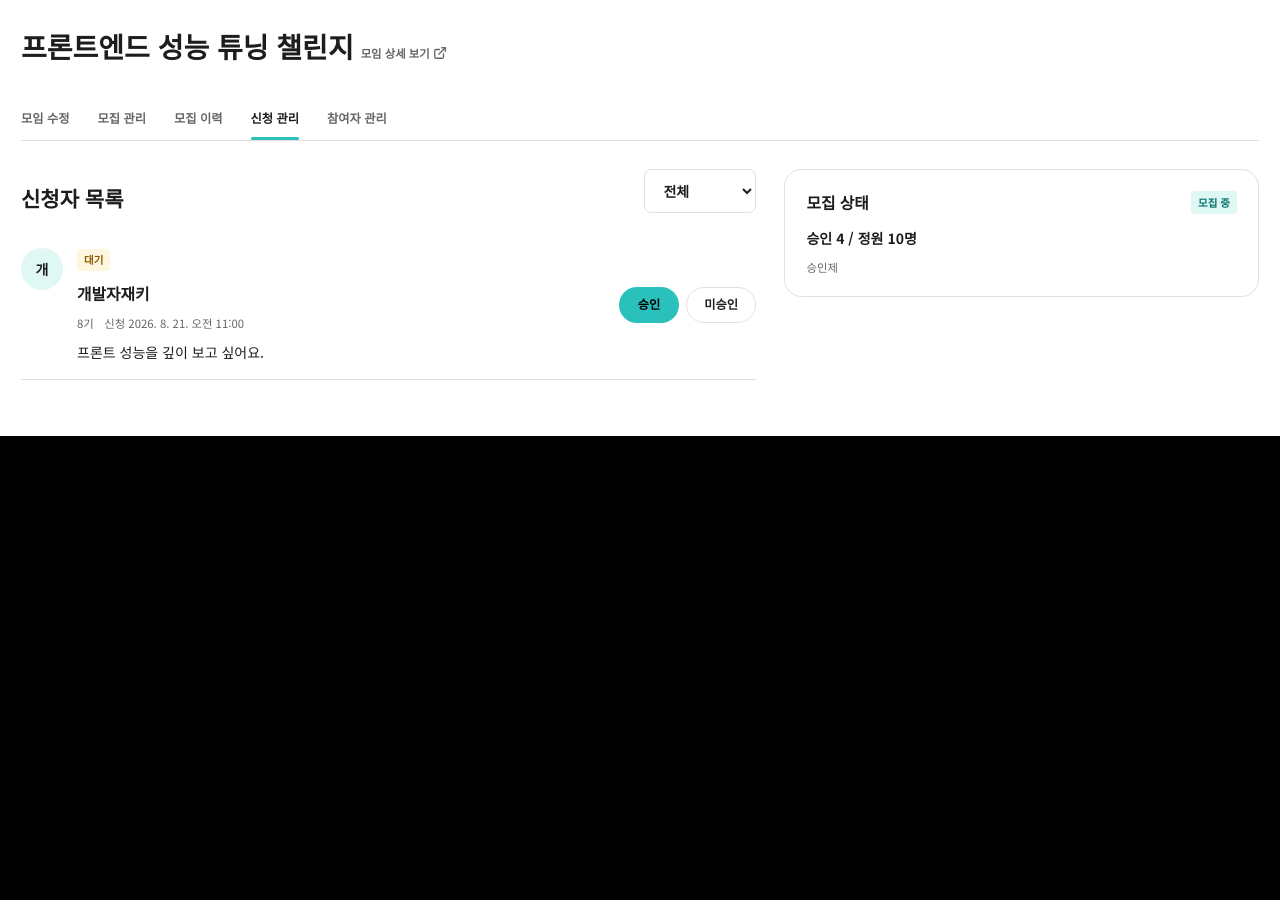
it: ManageRegistrationsPage › Given a rejected decision mutation, When confirming, Then the dialog stays open and only a safe error is shown
Click the button "승인". click: [649, 305]
box: x1=619 y1=287 x2=679 y2=323
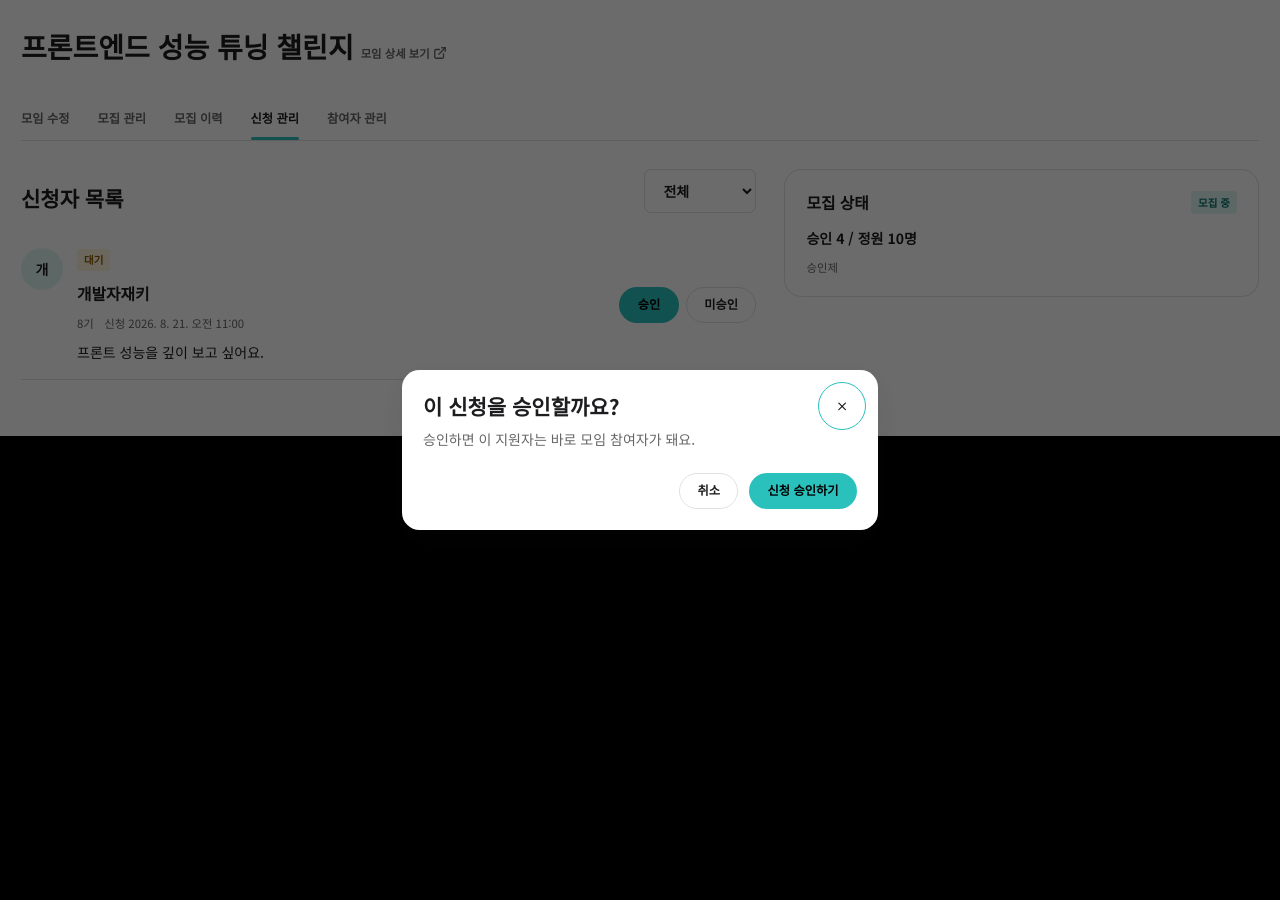
Click the button "신청 승인하기". click: [803, 490]
box: x1=749 y1=472 x2=857 y2=508
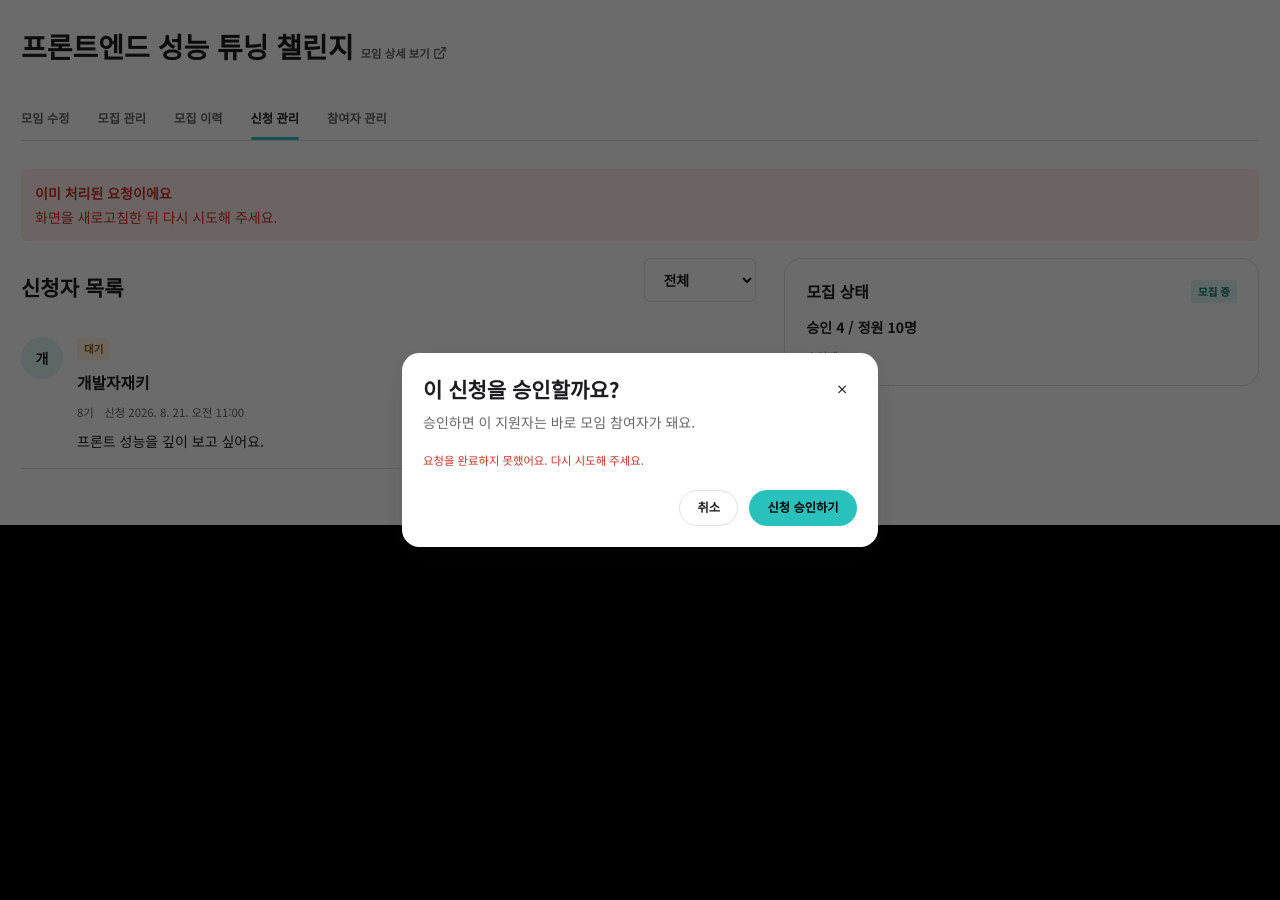
Check: the dialog "이 신청을 승인할까요?" is shown, box x1=402 y1=353 x2=878 y2=547
Check: the text "이미 처리된 요청이에요" is shown, box x1=35 y1=183 x2=172 y2=203
